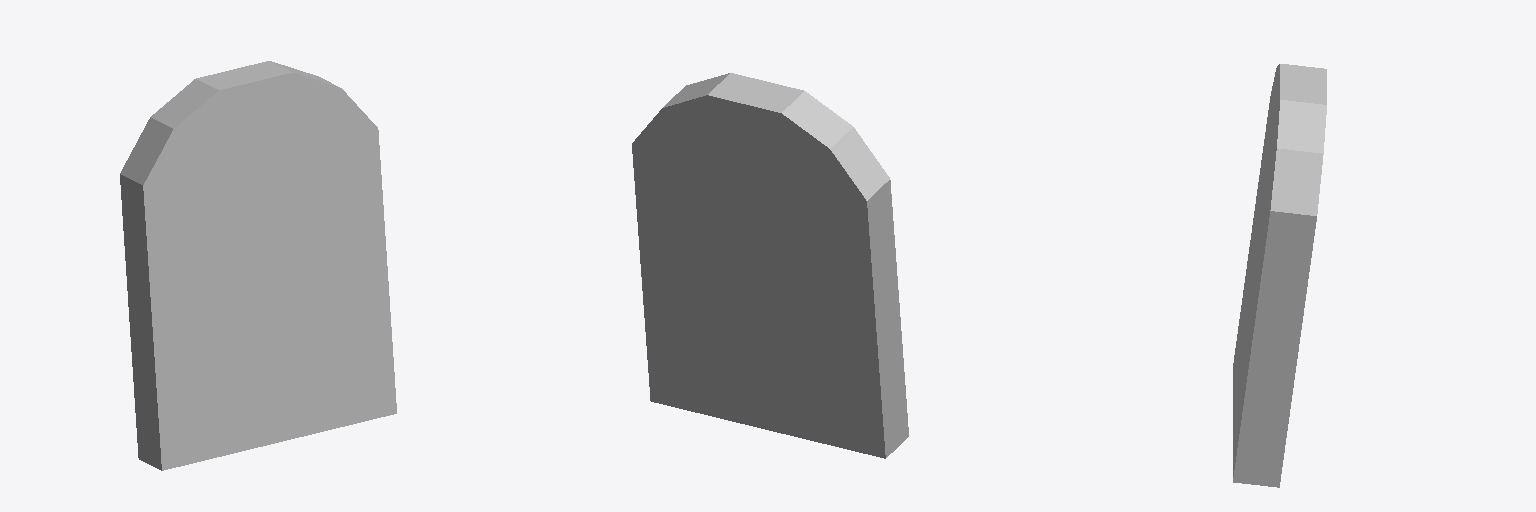
The model's file is Grave.obj.
3 views of the same model, side by side, from view 1: azimuth 30°, elevation 25°; view 2: azimuth 150°, elevation 25°; view 3: azimuth 270°, elevation 25° (orthographic).
Parts seen in each view (by area): view 1: Grave; view 2: Grave; view 3: Grave.
Boxes of the visible parts, <box> form: Grave: <box>120,61,396,470</box>; Grave: <box>632,73,908,458</box>; Grave: <box>1233,64,1326,487</box>.
Size of the model in its own units: 2 by 2.83 by 0.6953.